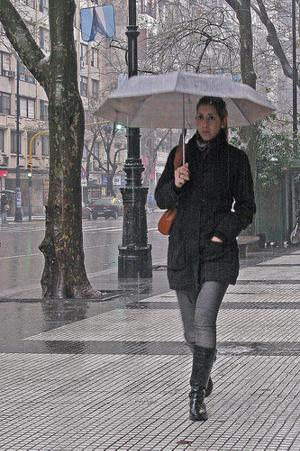person: (155, 97, 258, 419)
